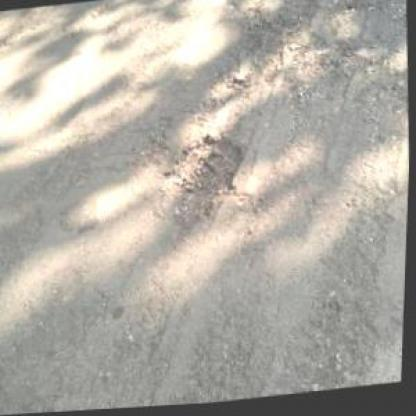pothole: (158, 136, 252, 223)
